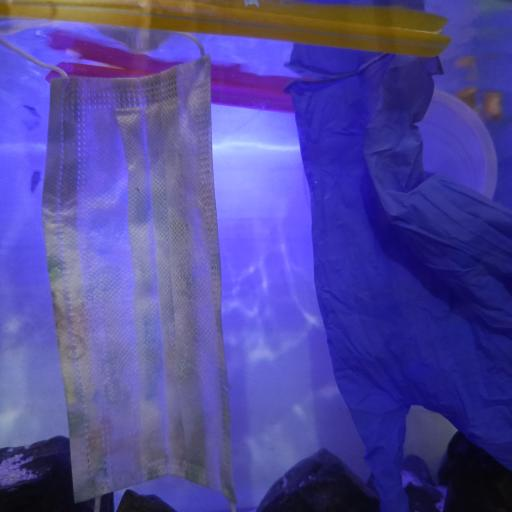glove: (282, 51, 512, 512)
mask: (2, 25, 242, 507)
plastic_cup: (408, 84, 499, 218)
plastic_straw: (0, 0, 454, 61), (52, 60, 292, 113)
